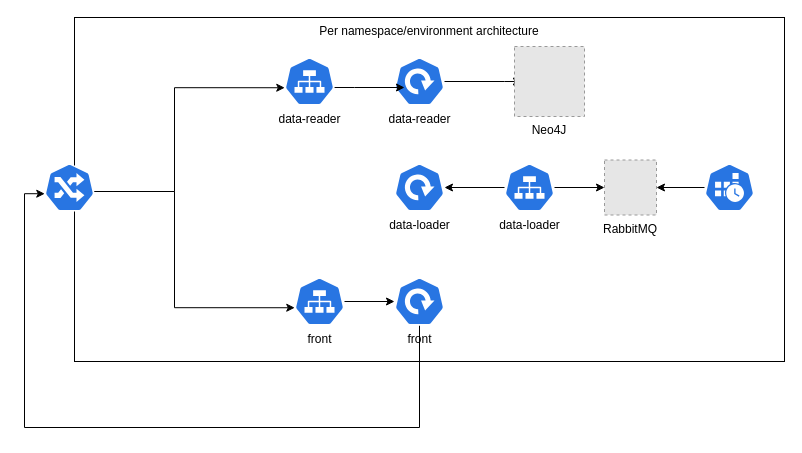
The diagram is 802 pixels wide and 453 high, and some of its shapes have lost their labels. Grey dashed boxes stand in for pictures. Each missing label, with the centre of its shape:
"Ingress" belongs at point 69,187.
"scrapper" belongs at point 729,187.
